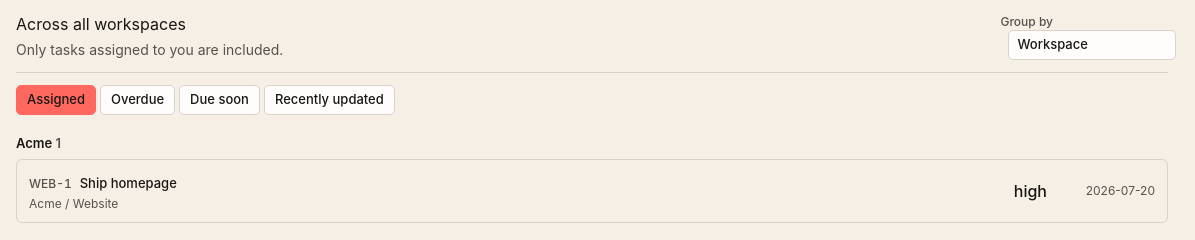
Test: MyWorkView › supports scope and grouping controls
The width and height of the screenshot is (1195, 240).
Click the button "Overdue": (138, 100) x1=100 y1=85 x2=175 y2=115
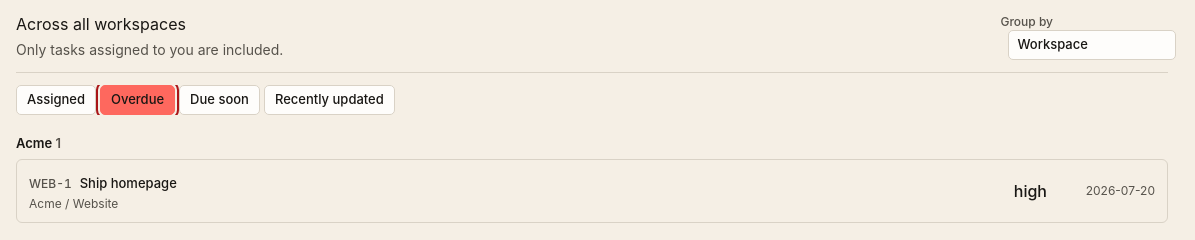
Expected: the button "Overdue" is pressed, x1=100 y1=85 x2=175 y2=115
Select "Project" in the dropdown named "Group My Work": (1092, 45) x1=1008 y1=30 x2=1176 y2=60
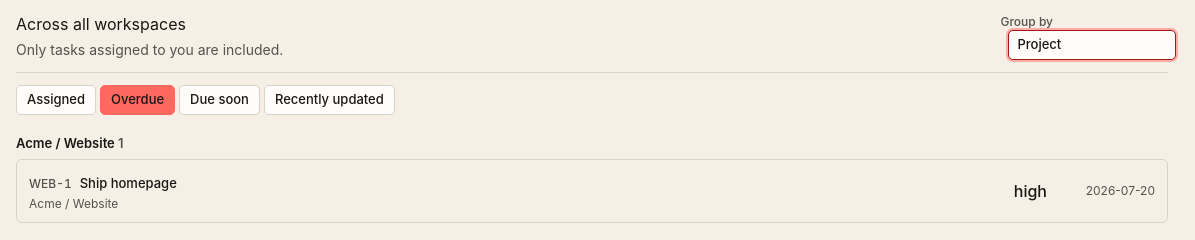
Expected: the heading "Acme / Website 1" is shown, x1=16 y1=135 x2=124 y2=151
